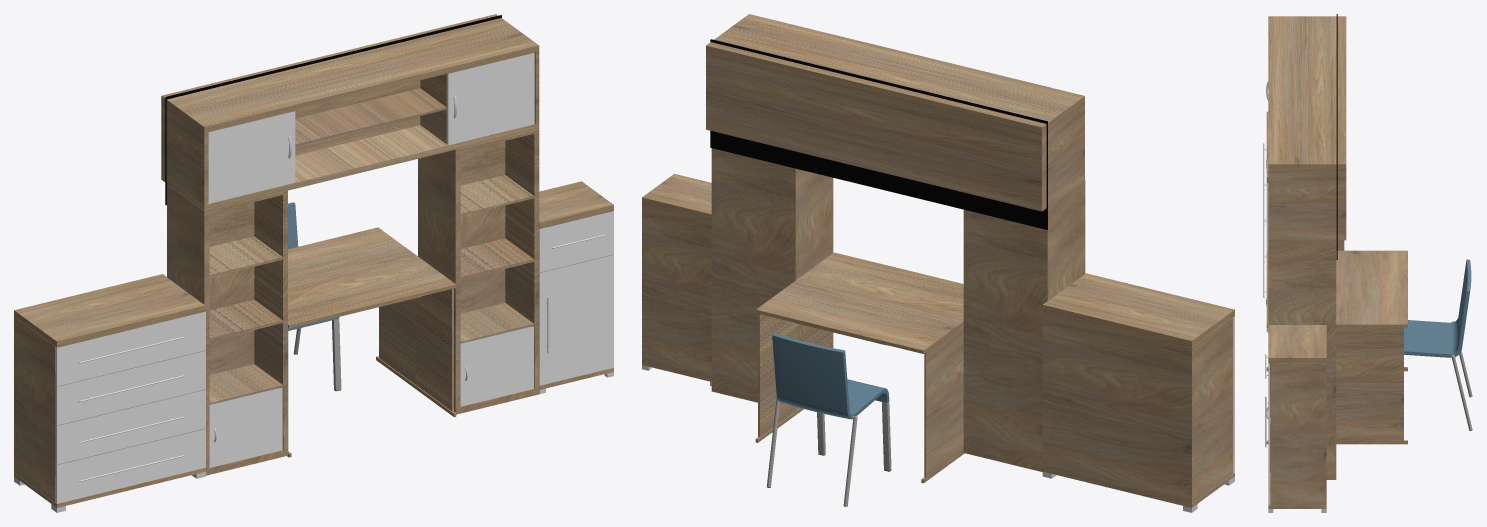
Rendered from Room.fbx.
3 views of the same model, side by side, from view 1: azimuth 30°, elevation 25°; view 2: azimuth 150°, elevation 25°; view 3: azimuth 270°, elevation 25° (orthographic). The views are drawn at different scales.
Visible parts, largest first — view 1: E_ HighGloss_ShelfUnit (×2), C_ HighGloss_TVUnit, DrawerUnit Front, D_ HighGloss_CoffeeTable, F_ HighGloss_DrawerUnit, TVUnit Doors, CupBoard Front, Shelf Unit Door (×2), B_ HighGloss_Cupboard, mirror, Cylinder12; view 2: C_ HighGloss_TVUnit, E_ HighGloss_ShelfUnit (×2), F_ HighGloss_DrawerUnit, D_ HighGloss_CoffeeTable, B_ HighGloss_Cupboard, mirror, Vitra.03_Seat, Vitra.03_ChairLegs01, Vitra.03_ChairLegs02; view 3: C_ HighGloss_TVUnit, D_ HighGloss_CoffeeTable, B_ HighGloss_Cupboard, E_ HighGloss_ShelfUnit, Vitra.03_Seat, Vitra.03_ChairLegs02, mirror, Cylinder12, CupBoard Front, F_ HighGloss_DrawerUnit.
Boxes of the visible parts, x1=… form: E_ HighGloss_ShelfUnit (×2): x1=167, y1=129, x2=539, y2=475; C_ HighGloss_TVUnit: x1=161, y1=14, x2=539, y2=210; DrawerUnit Front: x1=55, y1=311, x2=205, y2=503; D_ HighGloss_CoffeeTable: x1=287, y1=227, x2=456, y2=457; F_ HighGloss_DrawerUnit: x1=14, y1=274, x2=205, y2=507; TVUnit Doors: x1=208, y1=53, x2=534, y2=203; CupBoard Front: x1=539, y1=210, x2=613, y2=385; Shelf Unit Door (×2): x1=209, y1=326, x2=533, y2=467; B_ HighGloss_Cupboard: x1=539, y1=181, x2=613, y2=389; mirror: x1=165, y1=15, x2=501, y2=205; Cylinder12: x1=78, y1=336, x2=184, y2=481; C_ HighGloss_TVUnit: x1=706, y1=14, x2=1084, y2=211; E_ HighGloss_ShelfUnit (×2): x1=711, y1=148, x2=1085, y2=471; F_ HighGloss_DrawerUnit: x1=1042, y1=273, x2=1234, y2=507; D_ HighGloss_CoffeeTable: x1=755, y1=252, x2=964, y2=483; B_ HighGloss_Cupboard: x1=642, y1=174, x2=711, y2=381; mirror: x1=710, y1=39, x2=1047, y2=229; Vitra.03_Seat: x1=772, y1=333, x2=889, y2=419; Vitra.03_ChairLegs01: x1=817, y1=402, x2=891, y2=471; Vitra.03_ChairLegs02: x1=766, y1=397, x2=857, y2=506; C_ HighGloss_TVUnit: x1=1268, y1=16, x2=1346, y2=240; D_ HighGloss_CoffeeTable: x1=1266, y1=250, x2=1407, y2=444; B_ HighGloss_Cupboard: x1=1268, y1=325, x2=1326, y2=508; E_ HighGloss_ShelfUnit: x1=1268, y1=240, x2=1336, y2=479; Vitra.03_Seat: x1=1404, y1=259, x2=1471, y2=357; Vitra.03_ChairLegs02: x1=1451, y1=321, x2=1472, y2=430; mirror: x1=1336, y1=14, x2=1337, y2=259; Cylinder12: x1=1263, y1=143, x2=1266, y2=297; CupBoard Front: x1=1268, y1=363, x2=1269, y2=505; F_ HighGloss_DrawerUnit: x1=1266, y1=111, x2=1344, y2=327.
Size of the model in its own units: 300 by 185 by 108.
8 materials, 1 textured.
